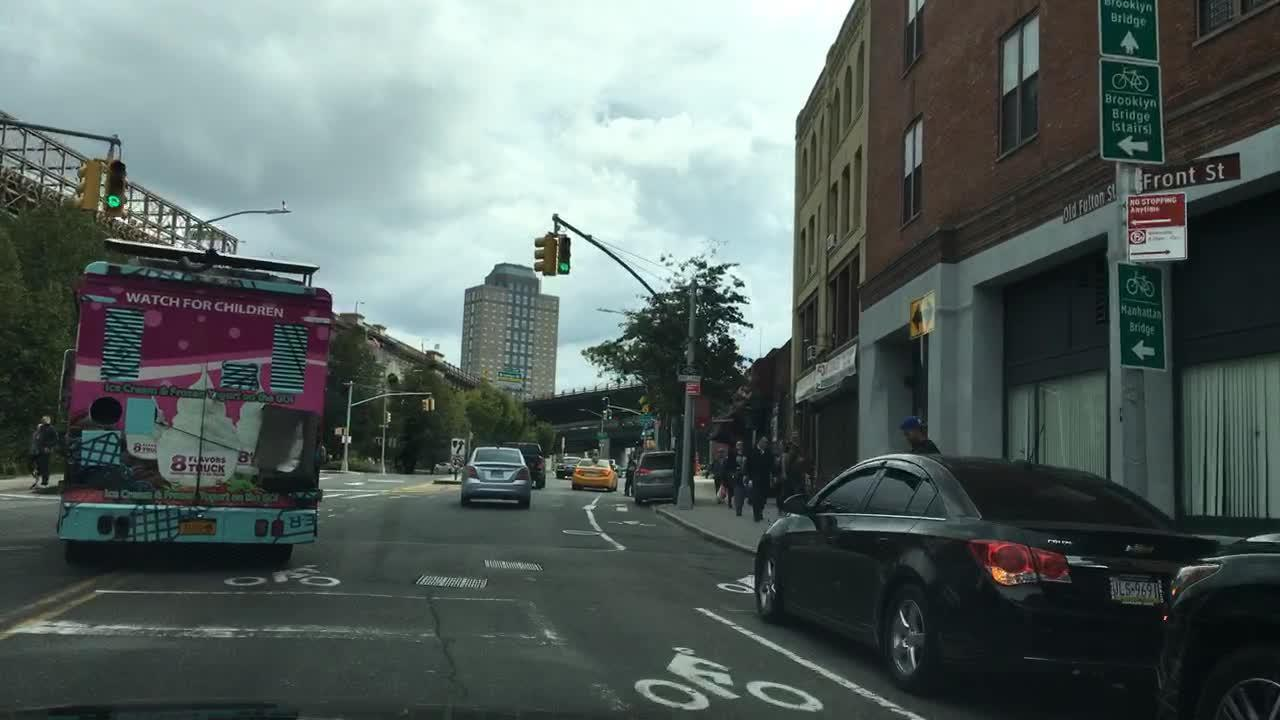chevrolet: (1123, 538, 1161, 559)
